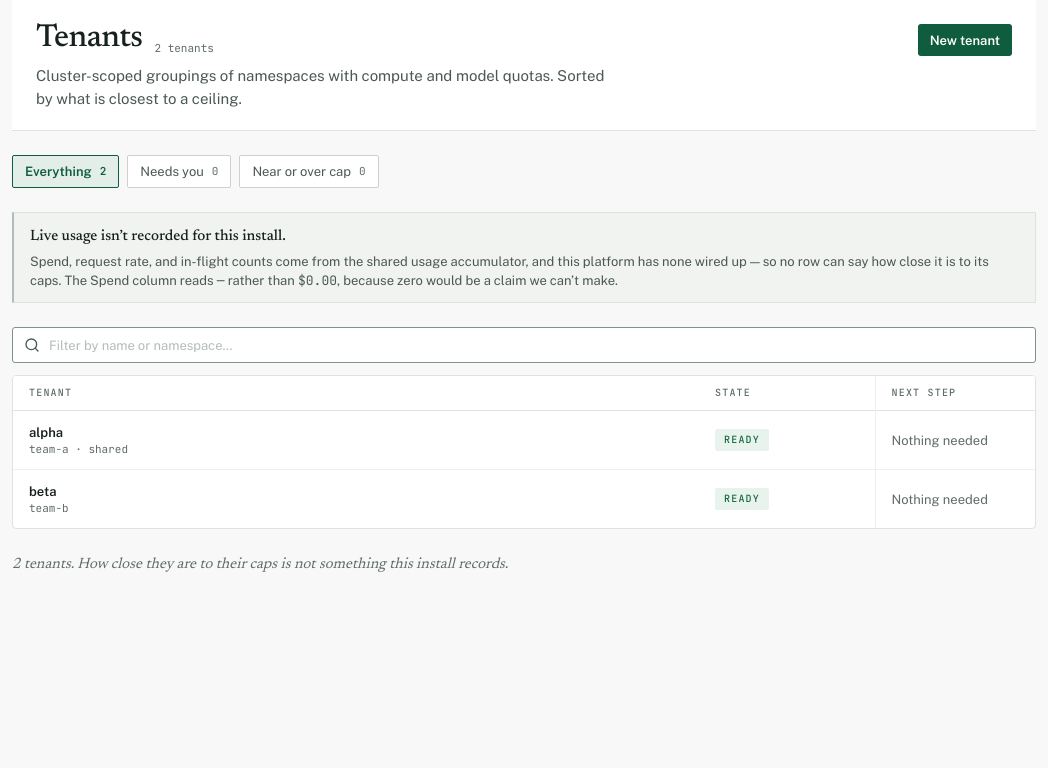
TenantsPage › filters by namespace, not just tenant name (M47 — 'who owns X?')
The image size is (1048, 768).
Expected: the text "alpha" is shown, [29,425,63,440]
// Typing a NAMESPACE that only alpha owns narrows the list to alpha.
Type "team-a" into the field with placeholder "Filter by name or namespace…" at (524, 345), box [12,327,1036,363]
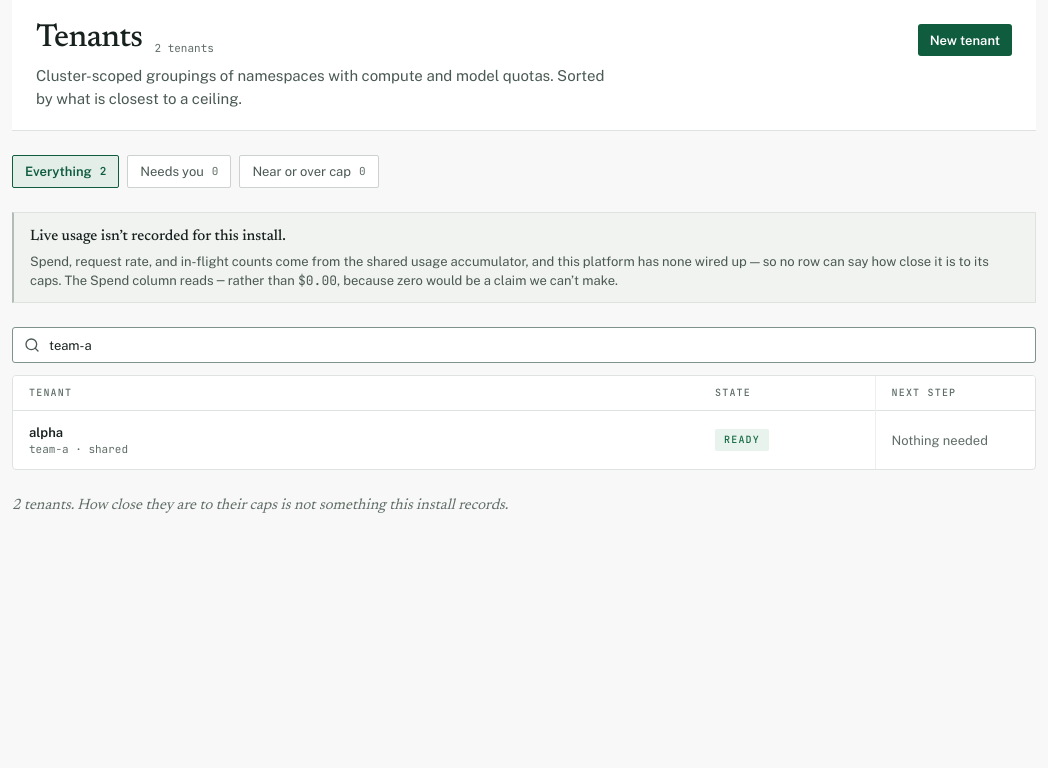
Expected: the text "alpha" is shown, [29,425,63,440]
Expected: the text "beta" is gone
